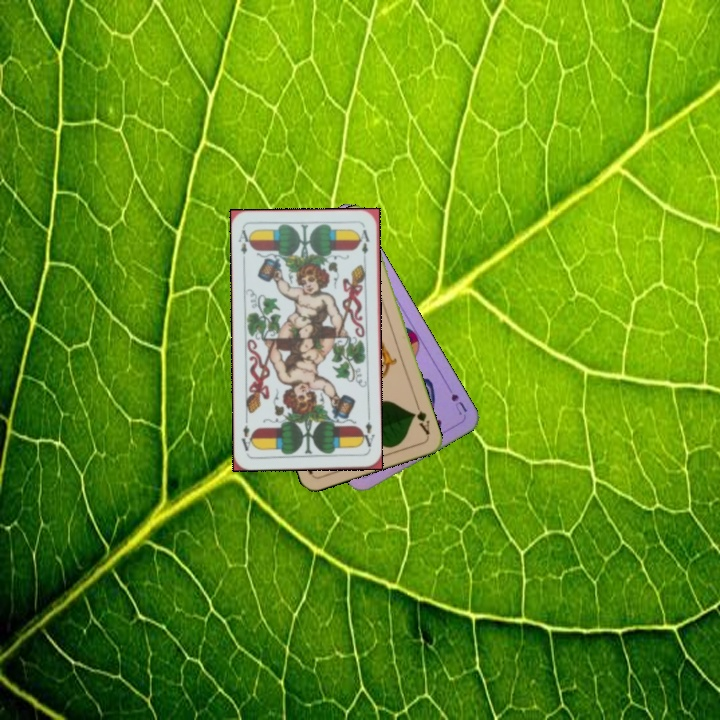EA: (234, 226, 254, 265), (357, 418, 377, 453)
GA: (409, 399, 432, 438)
SU: (443, 379, 470, 418)
